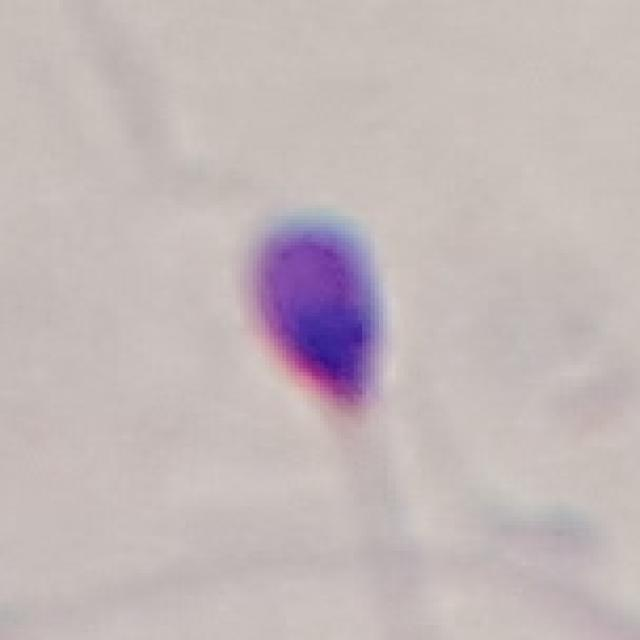normal sperm: (243, 209, 396, 580)
